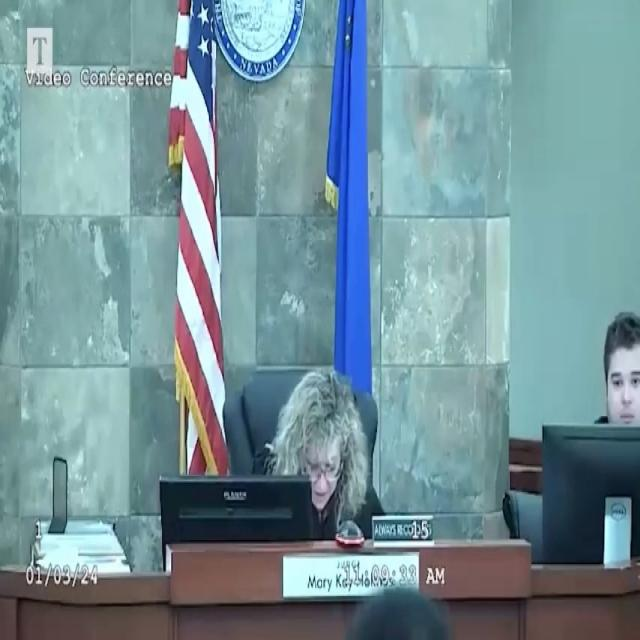non-fight: (253, 352, 388, 548), (589, 300, 640, 433)
